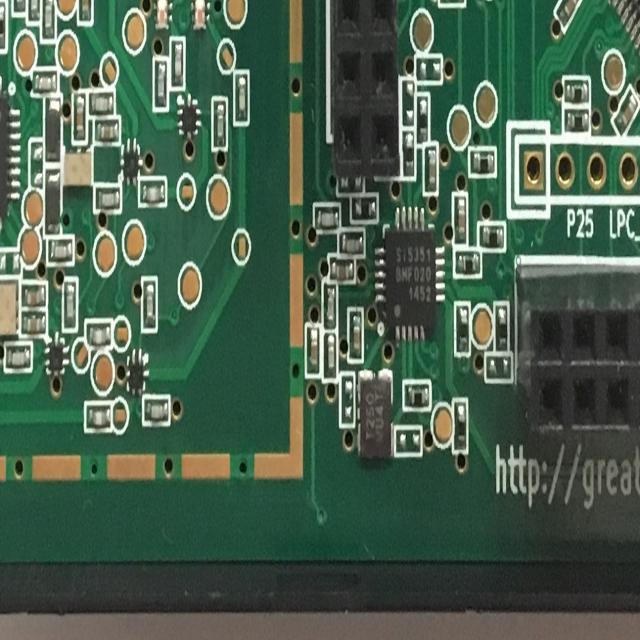IC: (493, 0, 640, 88), (375, 210, 445, 340), (0, 71, 19, 236), (358, 370, 392, 460), (178, 94, 202, 138), (125, 351, 149, 393), (120, 140, 142, 184), (45, 339, 68, 375)
capacitor: (615, 89, 637, 134), (304, 322, 320, 376), (452, 192, 468, 246), (348, 310, 363, 363), (423, 142, 438, 193), (94, 116, 120, 144), (557, 0, 582, 29), (72, 91, 86, 142), (329, 257, 354, 282), (23, 283, 46, 308), (21, 313, 45, 336), (78, 0, 92, 24)
component text: (392, 241, 433, 307), (362, 385, 386, 450)
connector: (515, 256, 640, 432), (326, 0, 393, 180), (514, 136, 640, 206)
pads: (484, 352, 512, 383), (395, 424, 422, 456), (399, 77, 415, 127), (415, 54, 442, 82), (340, 373, 354, 426), (438, 0, 466, 8)
resistor: (454, 246, 482, 282), (454, 299, 471, 356), (402, 378, 430, 412), (400, 127, 416, 183), (452, 398, 468, 454), (469, 146, 496, 179), (478, 222, 506, 253), (565, 77, 590, 108), (563, 108, 590, 136), (351, 194, 378, 222), (416, 93, 431, 143), (495, 304, 510, 353), (335, 174, 366, 197), (0, 0, 8, 52)
test point: (176, 258, 202, 310), (54, 27, 79, 77), (446, 104, 470, 154), (122, 218, 146, 268), (90, 349, 116, 395), (473, 79, 497, 128), (409, 6, 433, 54), (93, 228, 117, 276), (205, 173, 230, 219), (601, 49, 626, 95), (13, 31, 38, 75), (470, 303, 494, 348), (123, 8, 146, 54), (431, 402, 453, 450), (18, 224, 40, 270), (21, 186, 44, 229), (99, 49, 118, 90), (231, 228, 252, 265), (176, 173, 196, 211), (222, 0, 247, 29), (216, 38, 237, 72), (71, 336, 90, 373), (112, 314, 131, 348), (112, 401, 129, 436), (54, 0, 78, 19)
unknown: (44, 94, 62, 163), (44, 168, 62, 235), (61, 152, 94, 188), (0, 280, 21, 336), (232, 69, 250, 125), (211, 93, 228, 152), (142, 273, 158, 335), (152, 55, 169, 111), (62, 277, 79, 332), (139, 176, 168, 208), (84, 400, 112, 433), (47, 234, 74, 268), (170, 34, 186, 91), (86, 86, 115, 115), (92, 184, 122, 212), (4, 342, 32, 372), (322, 330, 338, 380), (337, 229, 365, 255), (143, 395, 169, 423), (86, 319, 112, 347), (314, 204, 340, 231), (323, 278, 337, 328), (190, 0, 211, 33), (31, 70, 58, 95), (41, 0, 56, 42), (0, 248, 21, 276), (153, 0, 171, 32), (31, 143, 43, 185), (28, 0, 41, 24), (12, 0, 28, 15)
